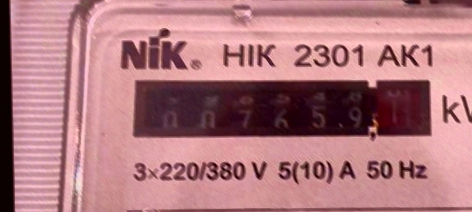0: (198, 106, 218, 132), (160, 106, 179, 133)
1: (387, 95, 401, 128)
5: (307, 102, 329, 129)
6: (271, 106, 290, 130)
7: (234, 107, 255, 132)
9: (345, 103, 364, 131)
screen: (122, 62, 442, 158)
